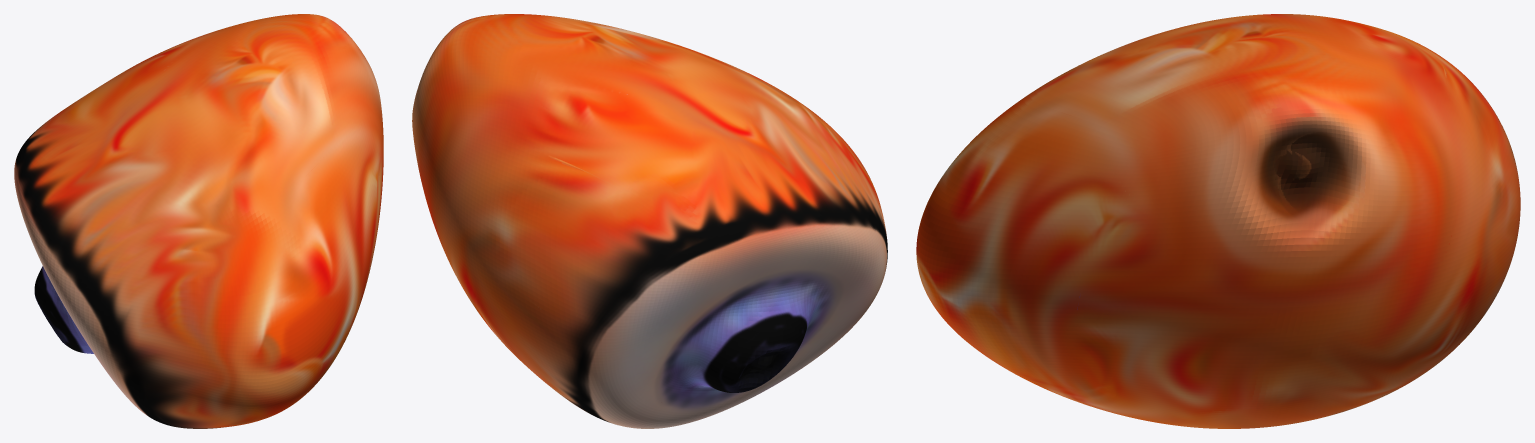
Rendered from eye new origin.fbx.
3 views of the same model, side by side, from view 1: azimuth 30°, elevation 25°; view 2: azimuth 150°, elevation 25°; view 3: azimuth 270°, elevation 25° (orthographic). The views are drawn at different scales.
Parts seen in each view (by area): view 1: Quad Sphere.001; view 2: Quad Sphere.001; view 3: Quad Sphere.001.
Boxes of the visible parts, x1,y1,x2,y2 form: Quad Sphere.001: (14, 14, 383, 428); Quad Sphere.001: (412, 14, 887, 428); Quad Sphere.001: (916, 14, 1520, 428).
Size of the model in its own units: 338 by 303 by 373.
1 material, 1 textured.
